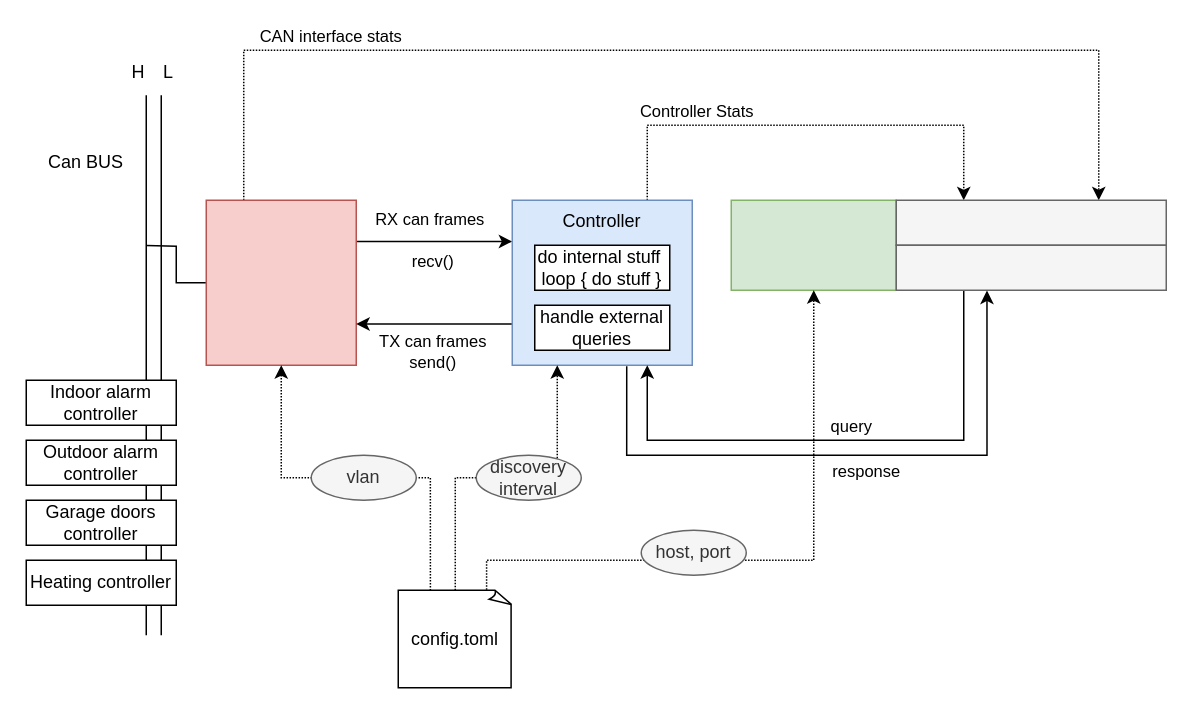
The diagram is 1193 pixels wide and 714 high, and some of its shapes have lost their labels. Each missing label, with the centre of its shape:
CAN interface: point 280,282
GET http://localhost:8081/query: point 1030,267
GET http://localhost:8081/stats: point 1030,222
Webserver: point 813,244
